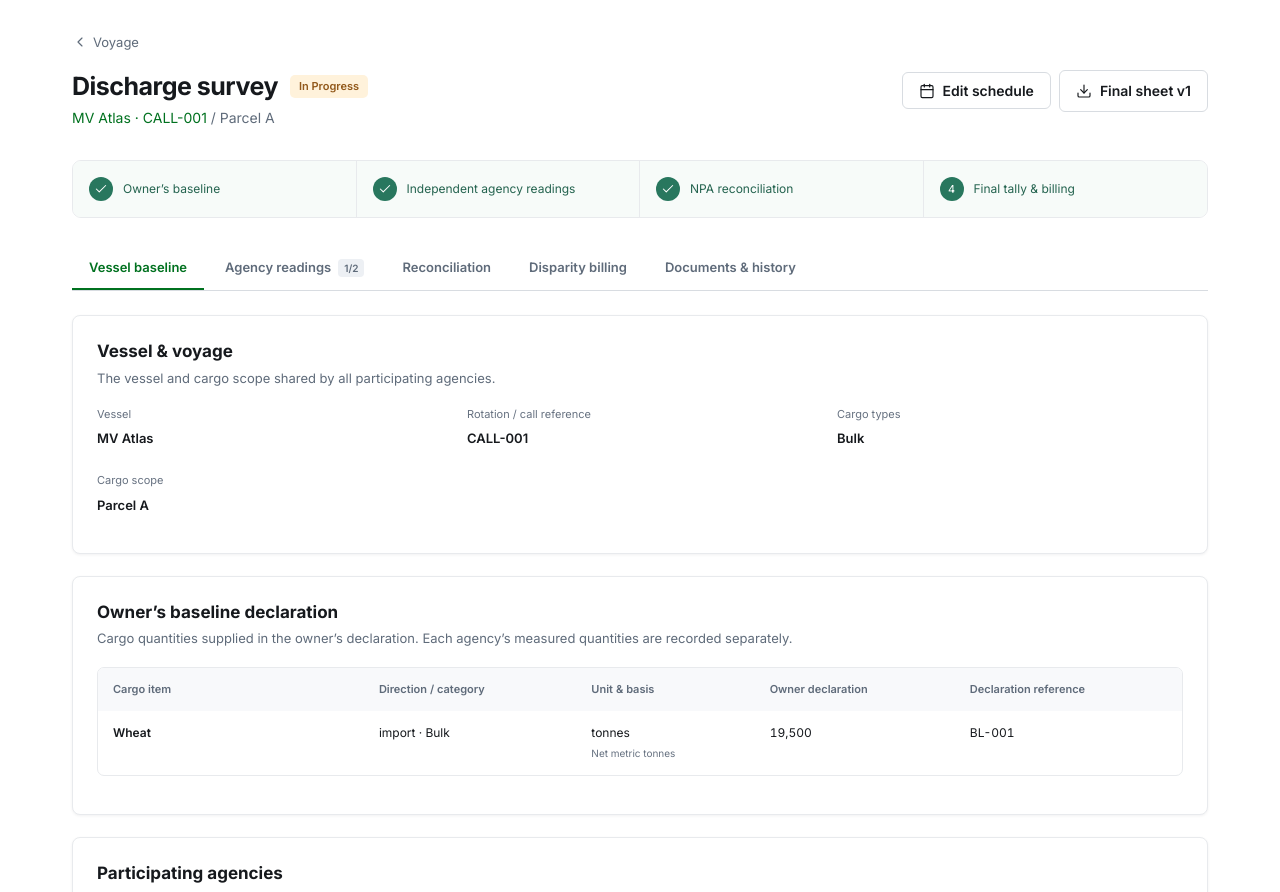
Test: measurement workflow › shows held assessments without an issue action
The image size is (1280, 892).
Expected: the heading "Discharge survey" is shown, [72,70,278,103]
Step 1. Click the tab "Disparity billing" → [578, 268], box [512,246,644,290]
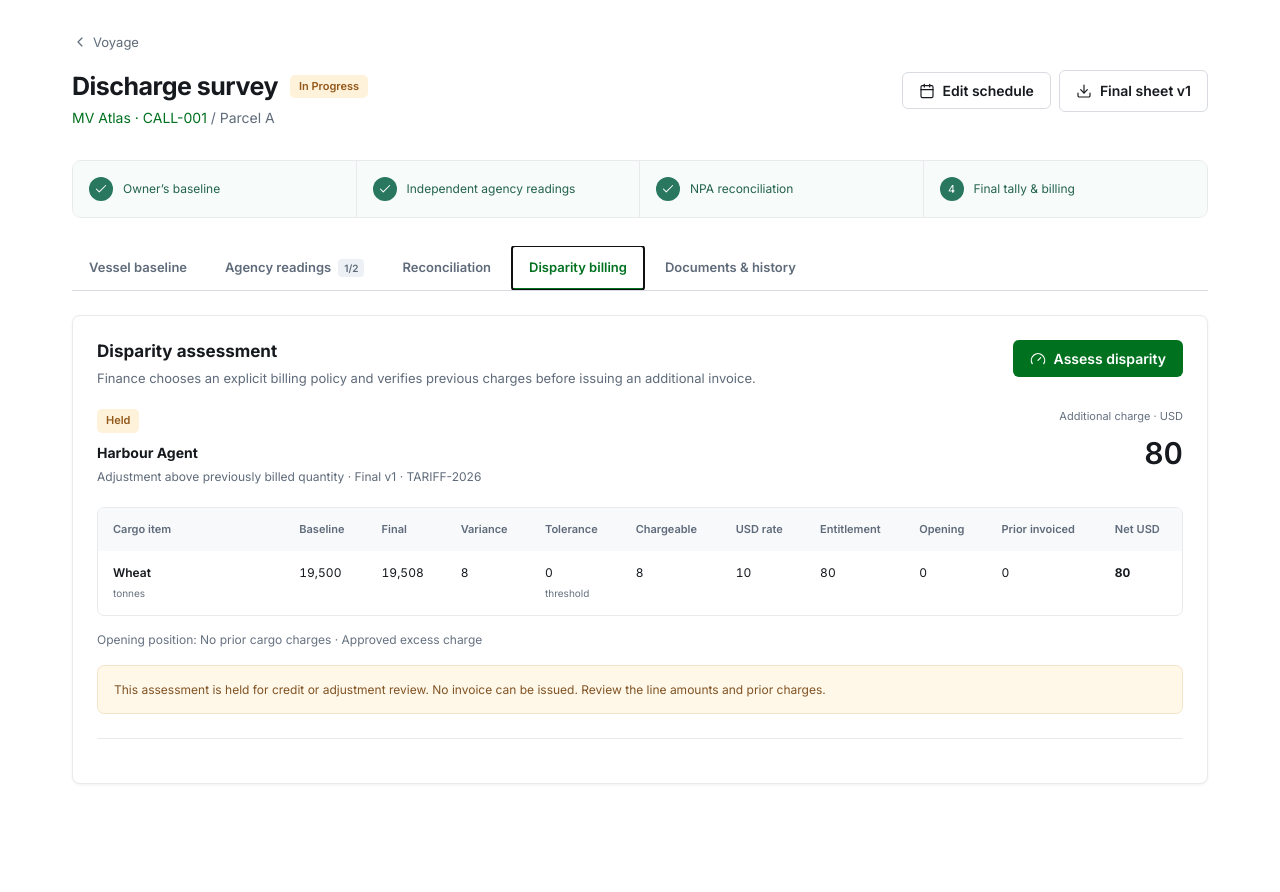
Expected: the text "held" is shown, [97,409,140,433]
Expected: the text "held for credit or adjustment review" is shown, [114,682,826,697]
